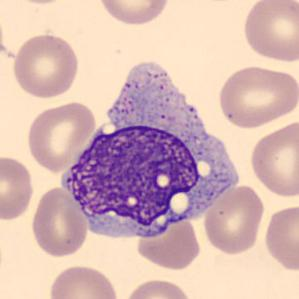Monocyte: (58, 55, 246, 246)
RBC: (215, 63, 298, 130), (25, 99, 97, 173), (10, 31, 82, 100), (202, 183, 266, 256), (29, 184, 90, 260), (248, 117, 298, 200), (133, 214, 204, 271), (240, 0, 299, 64), (45, 262, 120, 299), (261, 202, 299, 273), (0, 154, 36, 223), (96, 0, 171, 26), (122, 275, 194, 299)
